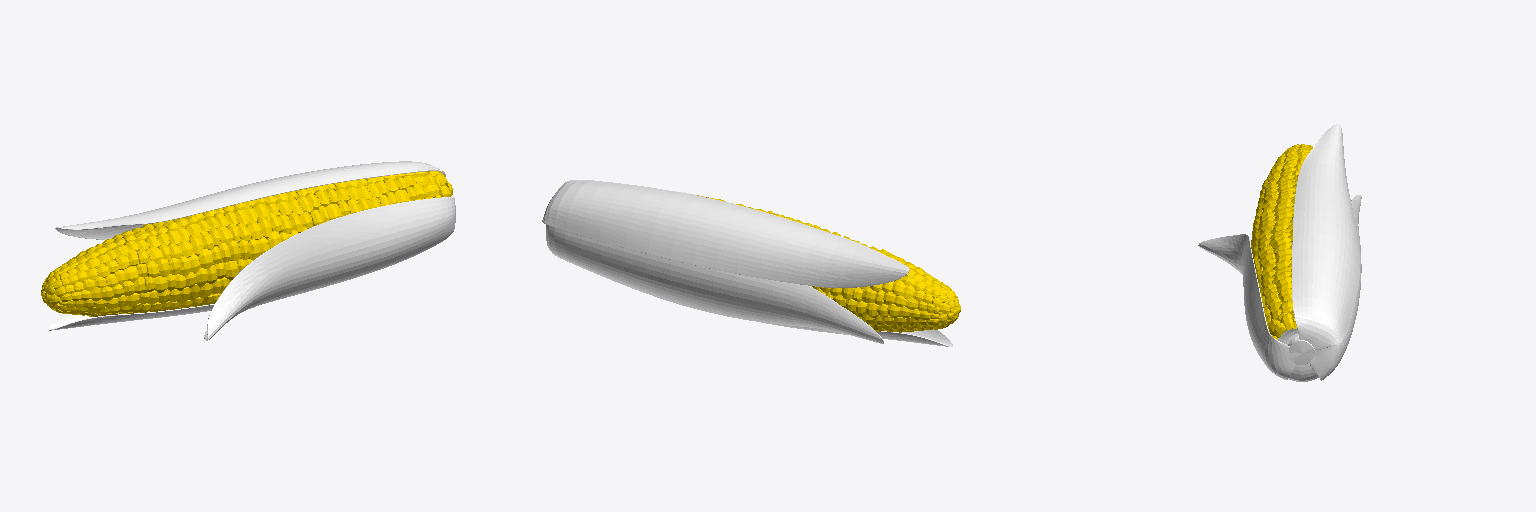
File: 11548_Ear_Of_Corn_Yellow_V2_l3.obj
3 views of the same model, side by side, from view 1: azimuth 30°, elevation 25°; view 2: azimuth 150°, elevation 25°; view 3: azimuth 270°, elevation 25° (orthographic).
Parts seen in each view (by area): view 1: Ear_Of_Corn_Ear_C1, Ear_Of_Corn_Leaf_C1; view 2: Ear_Of_Corn_Leaf_C1, Ear_Of_Corn_Ear_C1; view 3: Ear_Of_Corn_Leaf_C1, Ear_Of_Corn_Ear_C1, Ear_Of_Corn_Part_C1.
Part boxes in pixels (bbox=[...]): Ear_Of_Corn_Ear_C1: bbox=[41, 171, 452, 316]; Ear_Of_Corn_Leaf_C1: bbox=[49, 161, 455, 340]; Ear_Of_Corn_Leaf_C1: bbox=[542, 180, 952, 346]; Ear_Of_Corn_Ear_C1: bbox=[697, 195, 960, 332]; Ear_Of_Corn_Leaf_C1: bbox=[1198, 124, 1361, 381]; Ear_Of_Corn_Ear_C1: bbox=[1251, 144, 1312, 339]; Ear_Of_Corn_Part_C1: bbox=[1278, 329, 1315, 364].
Size of the model in its own units: 18.33 by 4.59 by 6.43.